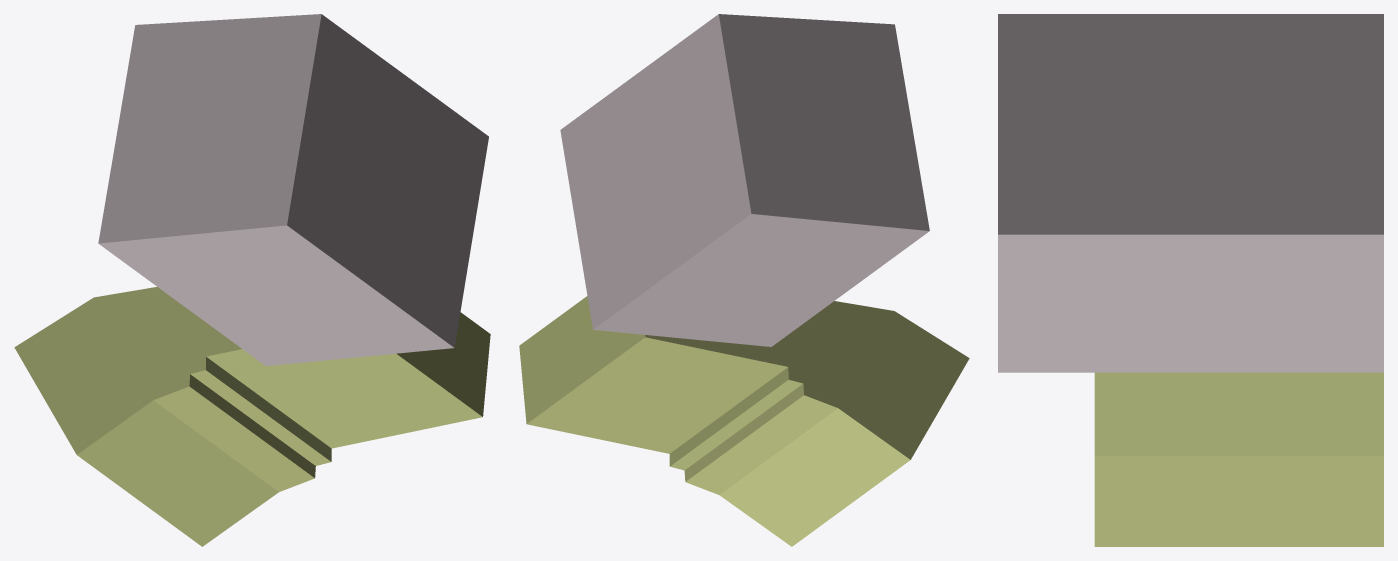
3 views of the same model, side by side, from view 1: azimuth 30°, elevation 25°; view 2: azimuth 150°, elevation 25°; view 3: azimuth 270°, elevation 25° (orthographic). The views are drawn at different scales.
Visible parts, largest first — view 1: 0_1_1_3_3_0_1_2_1_2; view 2: 0_1_1_3_3_0_1_2_1_2; view 3: 0_1_1_3_3_0_1_2_1_2.
Part boxes in pixels (x1=…): 0_1_1_3_3_0_1_2_1_2: x1=14, y1=14, x2=490, y2=546; 0_1_1_3_3_0_1_2_1_2: x1=519, y1=14, x2=969, y2=546; 0_1_1_3_3_0_1_2_1_2: x1=998, y1=14, x2=1383, y2=546.
Bounding box in the file's own units: 14.5 × 16.43 × 12.
